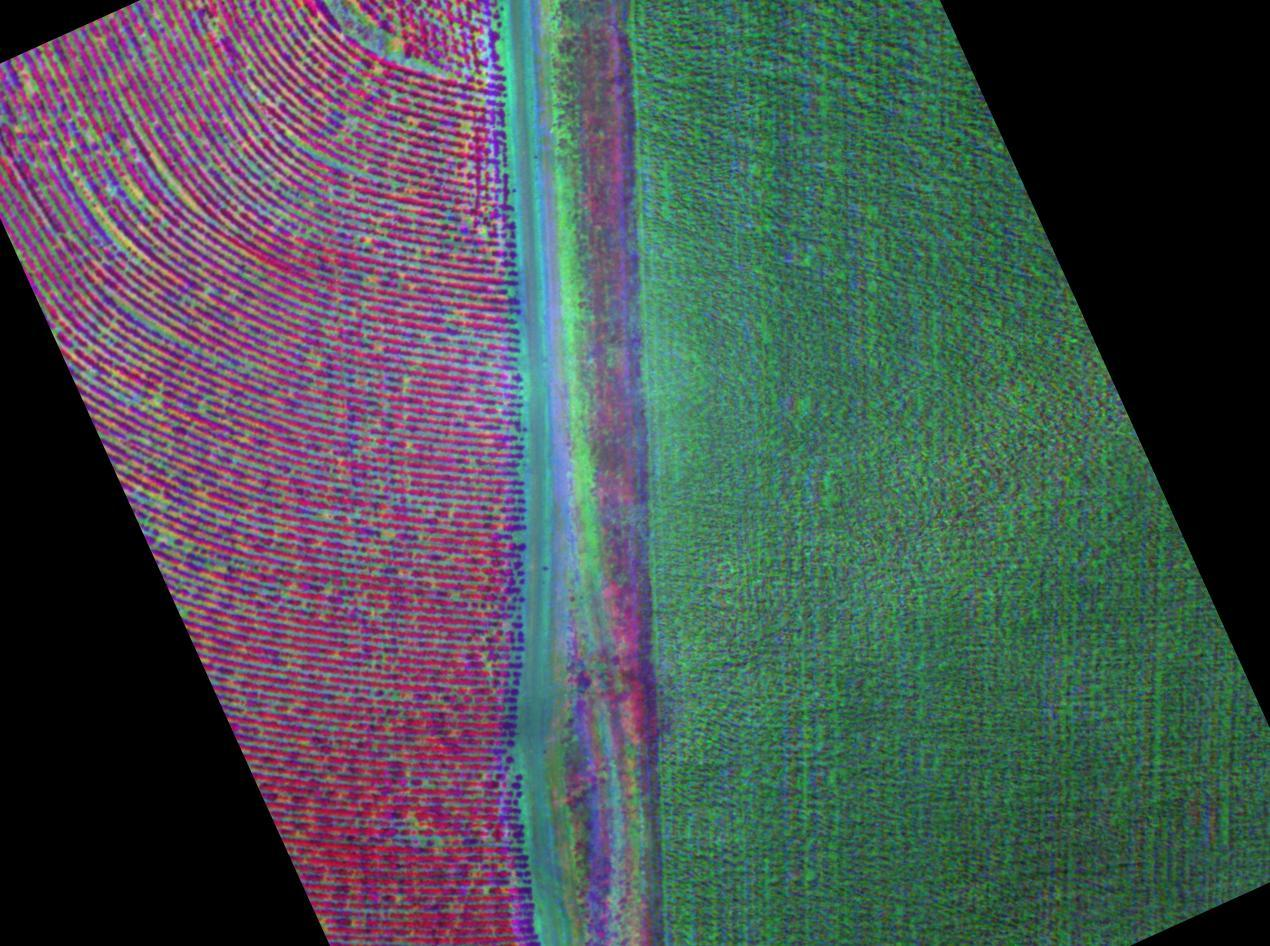dc: (298, 0, 466, 92), (76, 125, 191, 245), (313, 135, 433, 238), (91, 308, 200, 413), (381, 795, 455, 869)
